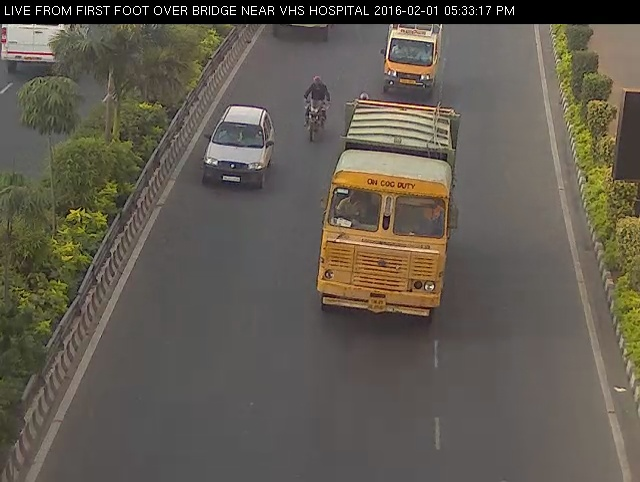Bus: (312, 91, 471, 347), (263, 12, 340, 47)
Car: (192, 90, 283, 209), (372, 3, 451, 104)
Person: (299, 71, 333, 139)
